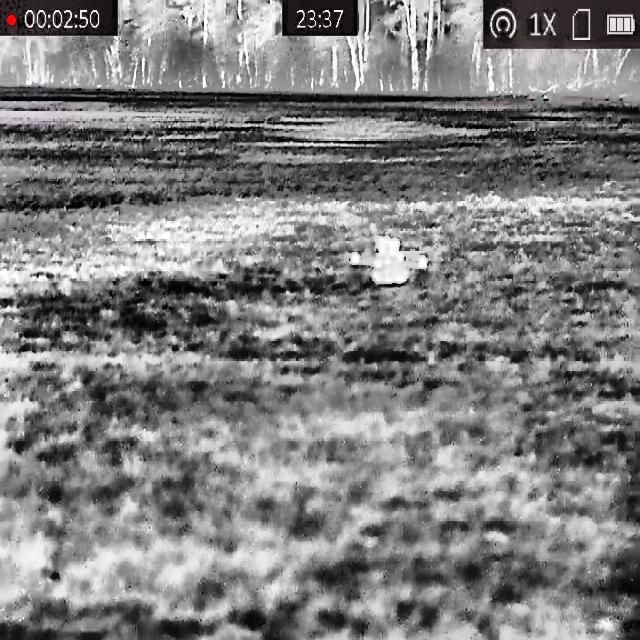drone: (349, 234, 428, 287)
